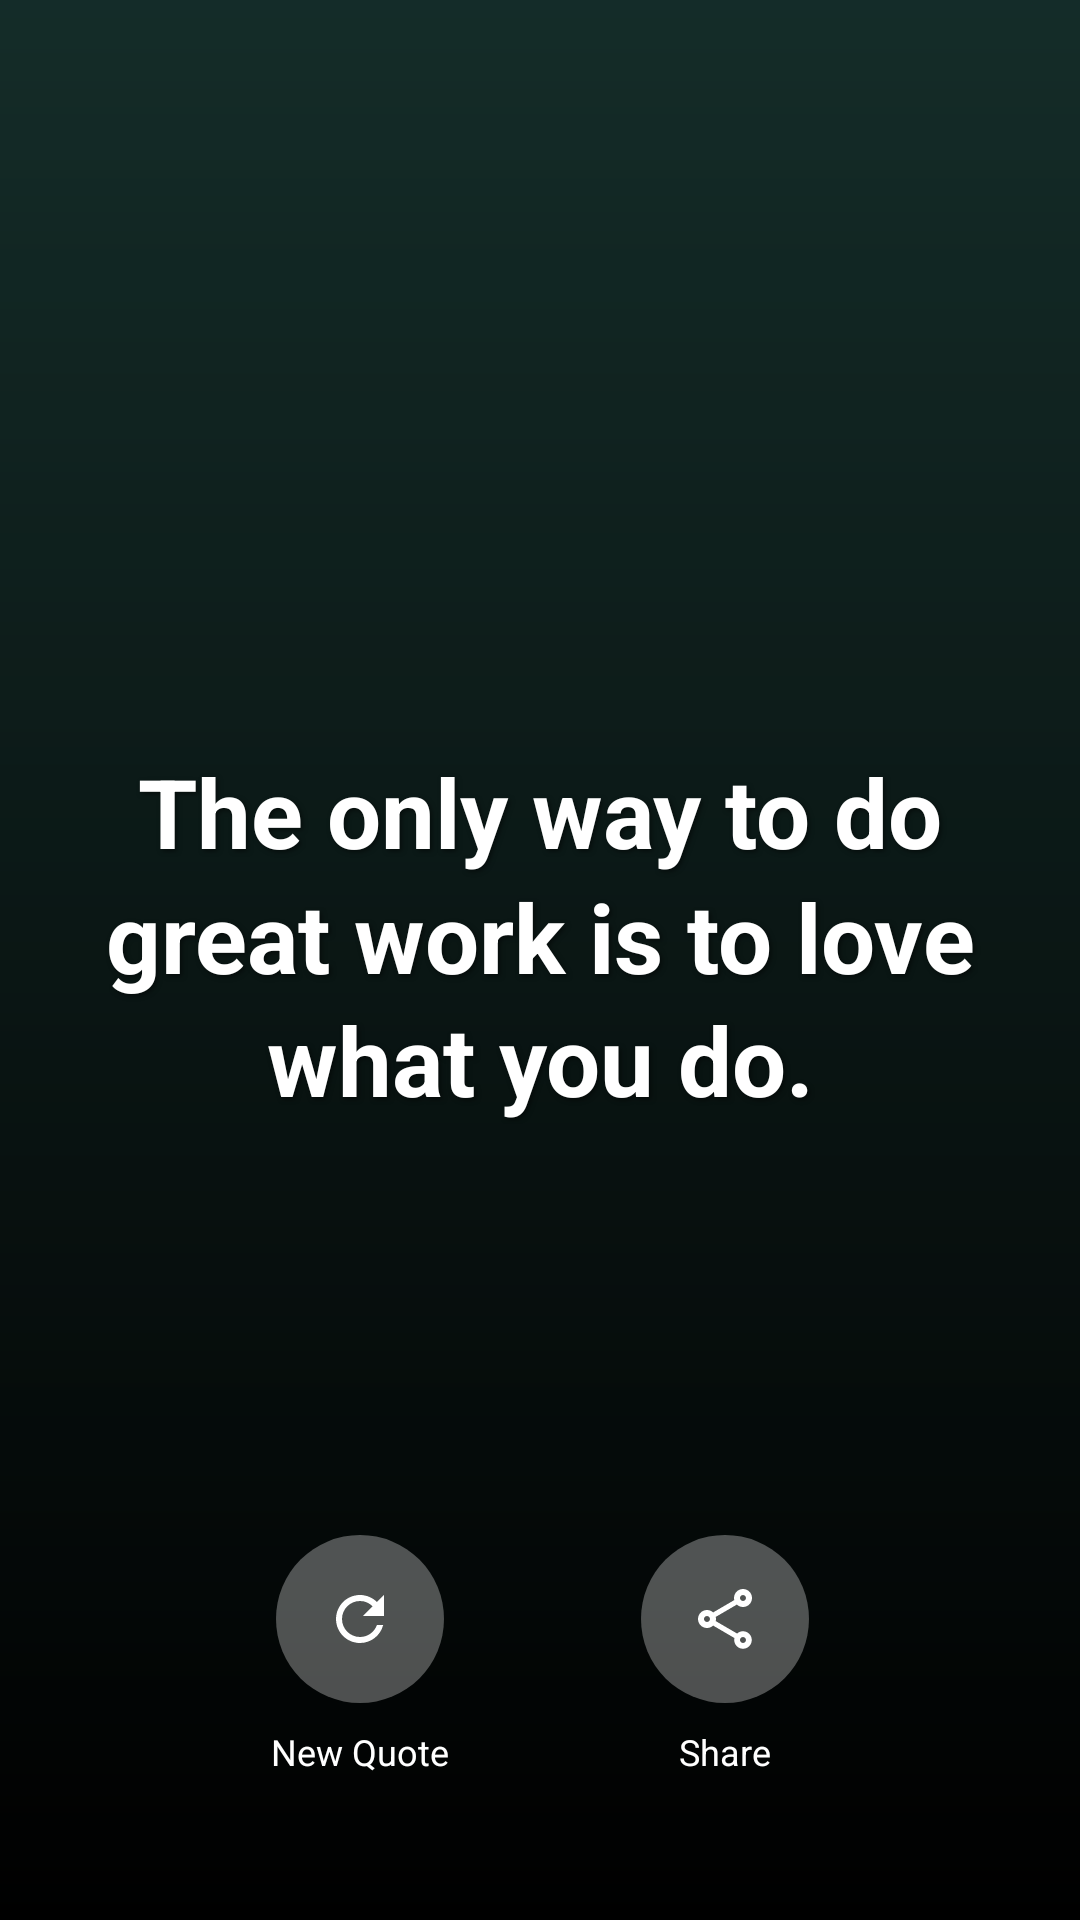

Named icons in this screenshot (1080 × 1920) and their centers, [x,y]:
refresh: [360,1619]
